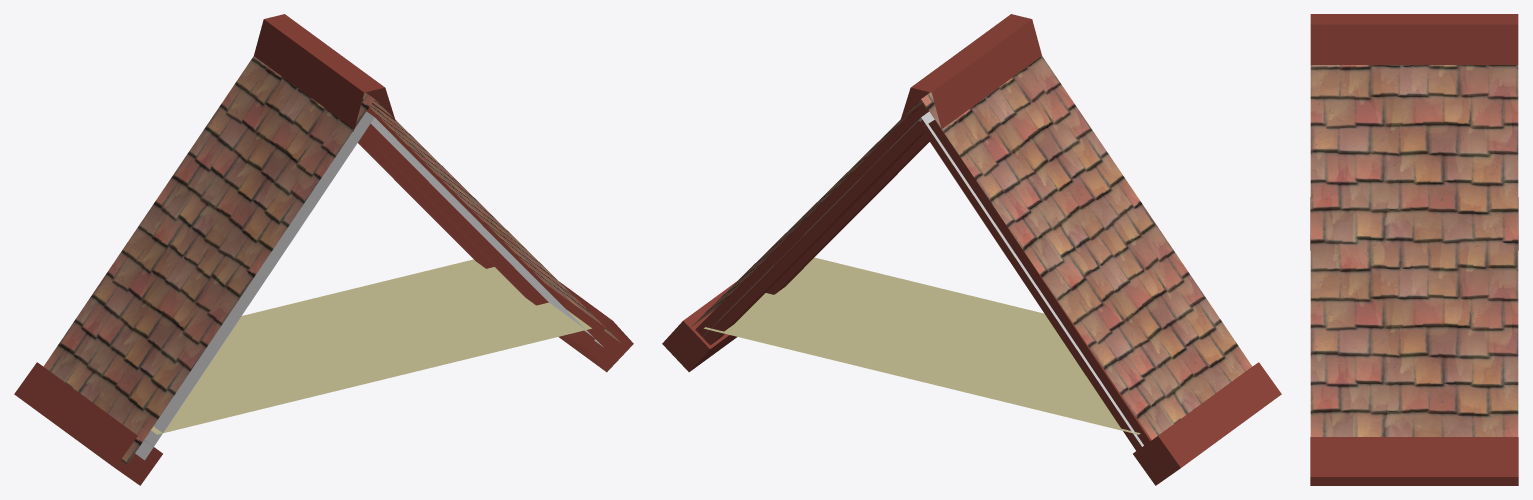
Rendered from roof_10x6x4.fbx.
The picture shows the model from 3 angles, left to right: view 1: azimuth 30°, elevation 25°; view 2: azimuth 150°, elevation 25°; view 3: azimuth 270°, elevation 25°; orthographic projection. The views are drawn at different scales.
Parts seen in each view (by area): view 1: roof_10x6x4; view 2: roof_10x6x4; view 3: roof_10x6x4.
Part boxes in pixels (x1=…): roof_10x6x4: x1=14, y1=14, x2=633, y2=485; roof_10x6x4: x1=662, y1=14, x2=1281, y2=485; roof_10x6x4: x1=1310, y1=14, x2=1518, y2=485.
Bounding box in the file's own units: 1192 × 743 × 401.
